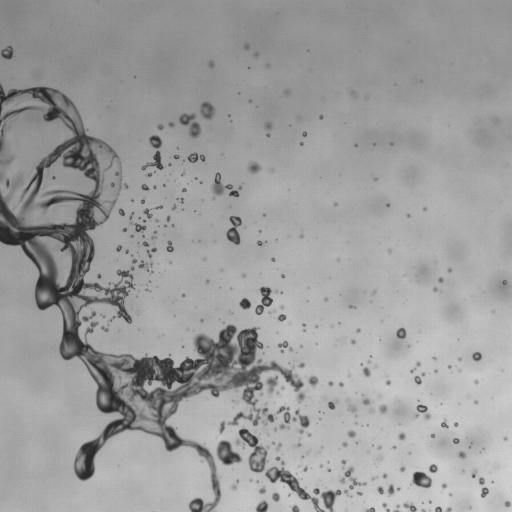droplet: (141, 135, 164, 170), (211, 173, 241, 197), (216, 440, 241, 465), (340, 466, 365, 489), (179, 113, 201, 138), (411, 471, 431, 488), (414, 404, 430, 419), (200, 102, 214, 119), (138, 261, 153, 274), (0, 46, 13, 59), (387, 484, 400, 496), (239, 297, 251, 309), (248, 162, 261, 173), (307, 375, 318, 387), (256, 500, 268, 511), (403, 501, 416, 511), (277, 341, 288, 352), (414, 372, 424, 384), (396, 327, 406, 338), (146, 248, 156, 258), (472, 352, 481, 361), (480, 487, 488, 497), (166, 241, 173, 252), (143, 209, 151, 218), (328, 400, 336, 409), (379, 404, 387, 413), (429, 464, 437, 473), (277, 314, 286, 321), (363, 367, 370, 376), (441, 419, 448, 428), (272, 492, 279, 501), (264, 122, 271, 130), (347, 430, 355, 437), (398, 432, 405, 440), (458, 451, 466, 458), (291, 504, 299, 511), (118, 208, 125, 215), (363, 398, 370, 405), (471, 469, 477, 477), (377, 486, 383, 494), (141, 184, 148, 190), (275, 443, 281, 450), (294, 442, 301, 448), (478, 477, 484, 484), (257, 240, 265, 245), (259, 487, 265, 493), (344, 490, 350, 496), (505, 501, 511, 507), (268, 309, 275, 314), (101, 326, 108, 331), (341, 460, 346, 467), (168, 122, 174, 127), (157, 124, 163, 129), (146, 172, 152, 177), (142, 241, 148, 246), (116, 245, 121, 251), (298, 362, 304, 367), (453, 438, 459, 443), (244, 44, 249, 49), (438, 277, 443, 282), (386, 380, 391, 385), (342, 442, 347, 447), (400, 466, 405, 471), (209, 61, 213, 67), (6, 180, 10, 186), (156, 205, 162, 209), (369, 408, 375, 412), (284, 90, 289, 94), (351, 91, 355, 96), (172, 205, 176, 210), (351, 339, 355, 344), (328, 381, 333, 385), (303, 466, 307, 471), (383, 473, 387, 478), (371, 476, 376, 480), (442, 483, 446, 488), (319, 115, 323, 119), (302, 132, 306, 136), (179, 198, 183, 202), (166, 216, 170, 220), (447, 268, 451, 272), (97, 274, 101, 278), (433, 287, 437, 291), (181, 293, 185, 297), (280, 305, 284, 309), (356, 328, 360, 332), (339, 382, 343, 386), (454, 422, 458, 426), (307, 432, 311, 436), (377, 445, 381, 449), (378, 455, 382, 459), (174, 155, 179, 158), (254, 53, 258, 56), (267, 133, 270, 137), (141, 199, 144, 203), (388, 248, 391, 252), (271, 258, 275, 261), (503, 280, 506, 284), (350, 305, 354, 308), (288, 348, 292, 351), (474, 380, 478, 383), (474, 400, 477, 404), (503, 437, 507, 440), (392, 445, 396, 448), (276, 457, 280, 460), (357, 492, 361, 495), (421, 509, 426, 511), (181, 172, 184, 175), (374, 177, 377, 180), (182, 188, 185, 191), (334, 202, 337, 205), (123, 228, 126, 231), (300, 234, 303, 237), (242, 274, 245, 277), (281, 274, 284, 277), (458, 357, 461, 360), (367, 360, 370, 363), (374, 365, 377, 368), (281, 386, 284, 389), (431, 434, 434, 437), (300, 142, 302, 145), (52, 176, 54, 179), (153, 186, 156, 188), (423, 208, 426, 210), (406, 214, 409, 216), (125, 250, 128, 252), (324, 298, 327, 300), (101, 315, 104, 317), (448, 366, 451, 368), (328, 468, 330, 471), (131, 199, 133, 201), (387, 204, 389, 206), (230, 311, 232, 313), (200, 319, 202, 321), (434, 370, 436, 372), (348, 374, 350, 376), (272, 442, 274, 444), (320, 465, 322, 467)
ligament: (0, 83, 307, 511), (235, 426, 340, 511), (254, 286, 279, 315), (226, 216, 241, 244), (187, 152, 205, 162), (130, 221, 146, 232), (382, 502, 401, 511), (12, 176, 22, 190), (346, 399, 356, 412), (410, 361, 420, 372), (435, 506, 451, 511), (231, 480, 238, 490), (363, 507, 375, 511), (151, 230, 156, 239), (129, 212, 134, 219), (139, 217, 145, 222), (0, 172, 3, 180)
